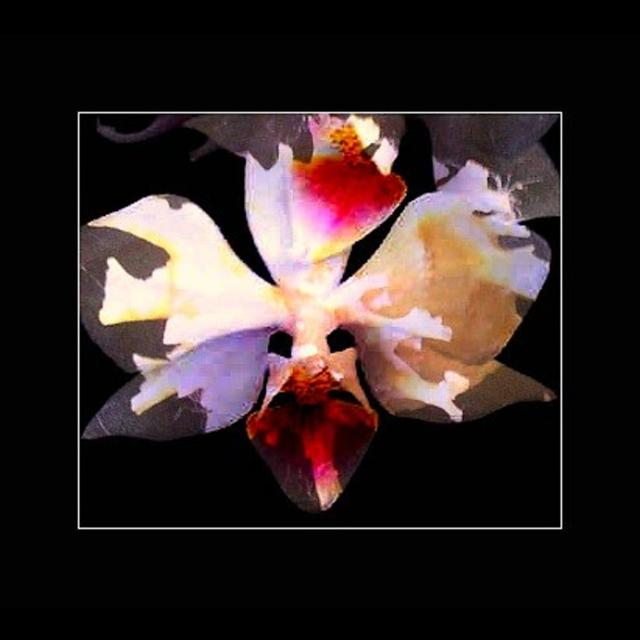Flower: (81, 112, 555, 510)
